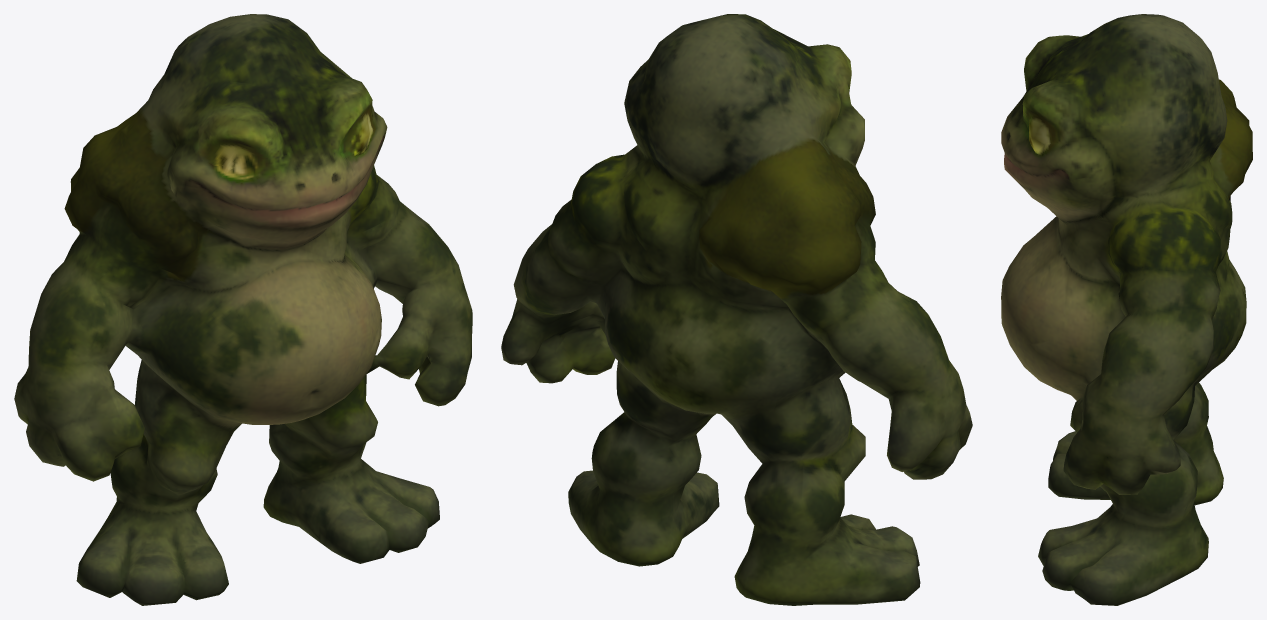
File: drowned_grubling_v2.glb
The picture shows the model from 3 angles, left to right: view 1: azimuth 30°, elevation 25°; view 2: azimuth 150°, elevation 25°; view 3: azimuth 270°, elevation 25°; orthographic projection. The views are drawn at different scales.
Visible parts, largest first — view 1: drowned-grubling-m0-4000-v2; view 2: drowned-grubling-m0-4000-v2; view 3: drowned-grubling-m0-4000-v2.
Part boxes in pixels (bbox=[...]): drowned-grubling-m0-4000-v2: bbox=[14, 14, 472, 605]; drowned-grubling-m0-4000-v2: bbox=[501, 14, 972, 605]; drowned-grubling-m0-4000-v2: bbox=[1001, 14, 1252, 605].
Size of the model in its own units: 0.8638 by 1 by 0.4503.
1 material, 1 textured.
